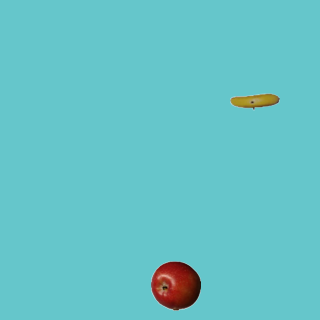Apple Braeburn: (150, 260, 200, 310)
Banana: (229, 76, 279, 126)
